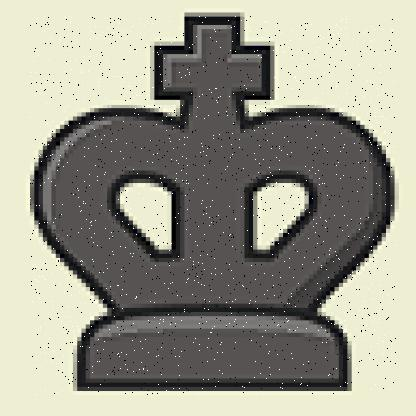Black King: (30, 16, 397, 396)
